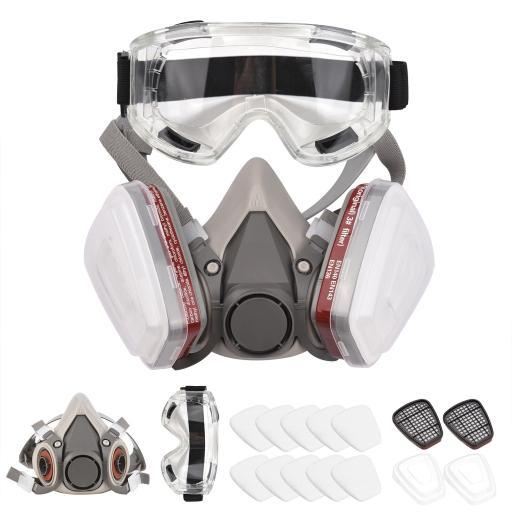mask: (73, 146, 450, 375)
